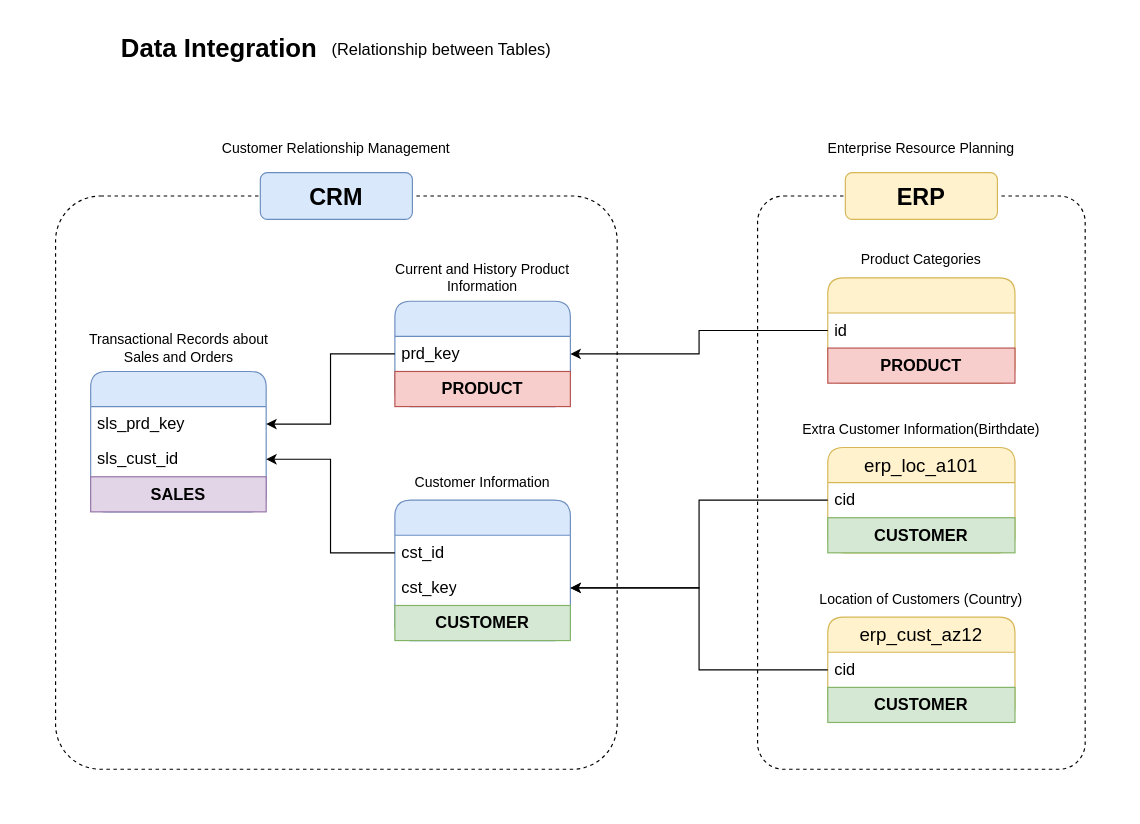
This 1140x824 diagram has some shape labels left out. The box of each missing label's shape, as (x1, y1, x2, y2) in pixels:
crm_cust_info: (394, 499, 570, 641)
crm_prd_info: (394, 300, 570, 407)
crm_sales_details: (90, 370, 266, 512)
erp_px_cat_g1v2: (827, 277, 1015, 383)
